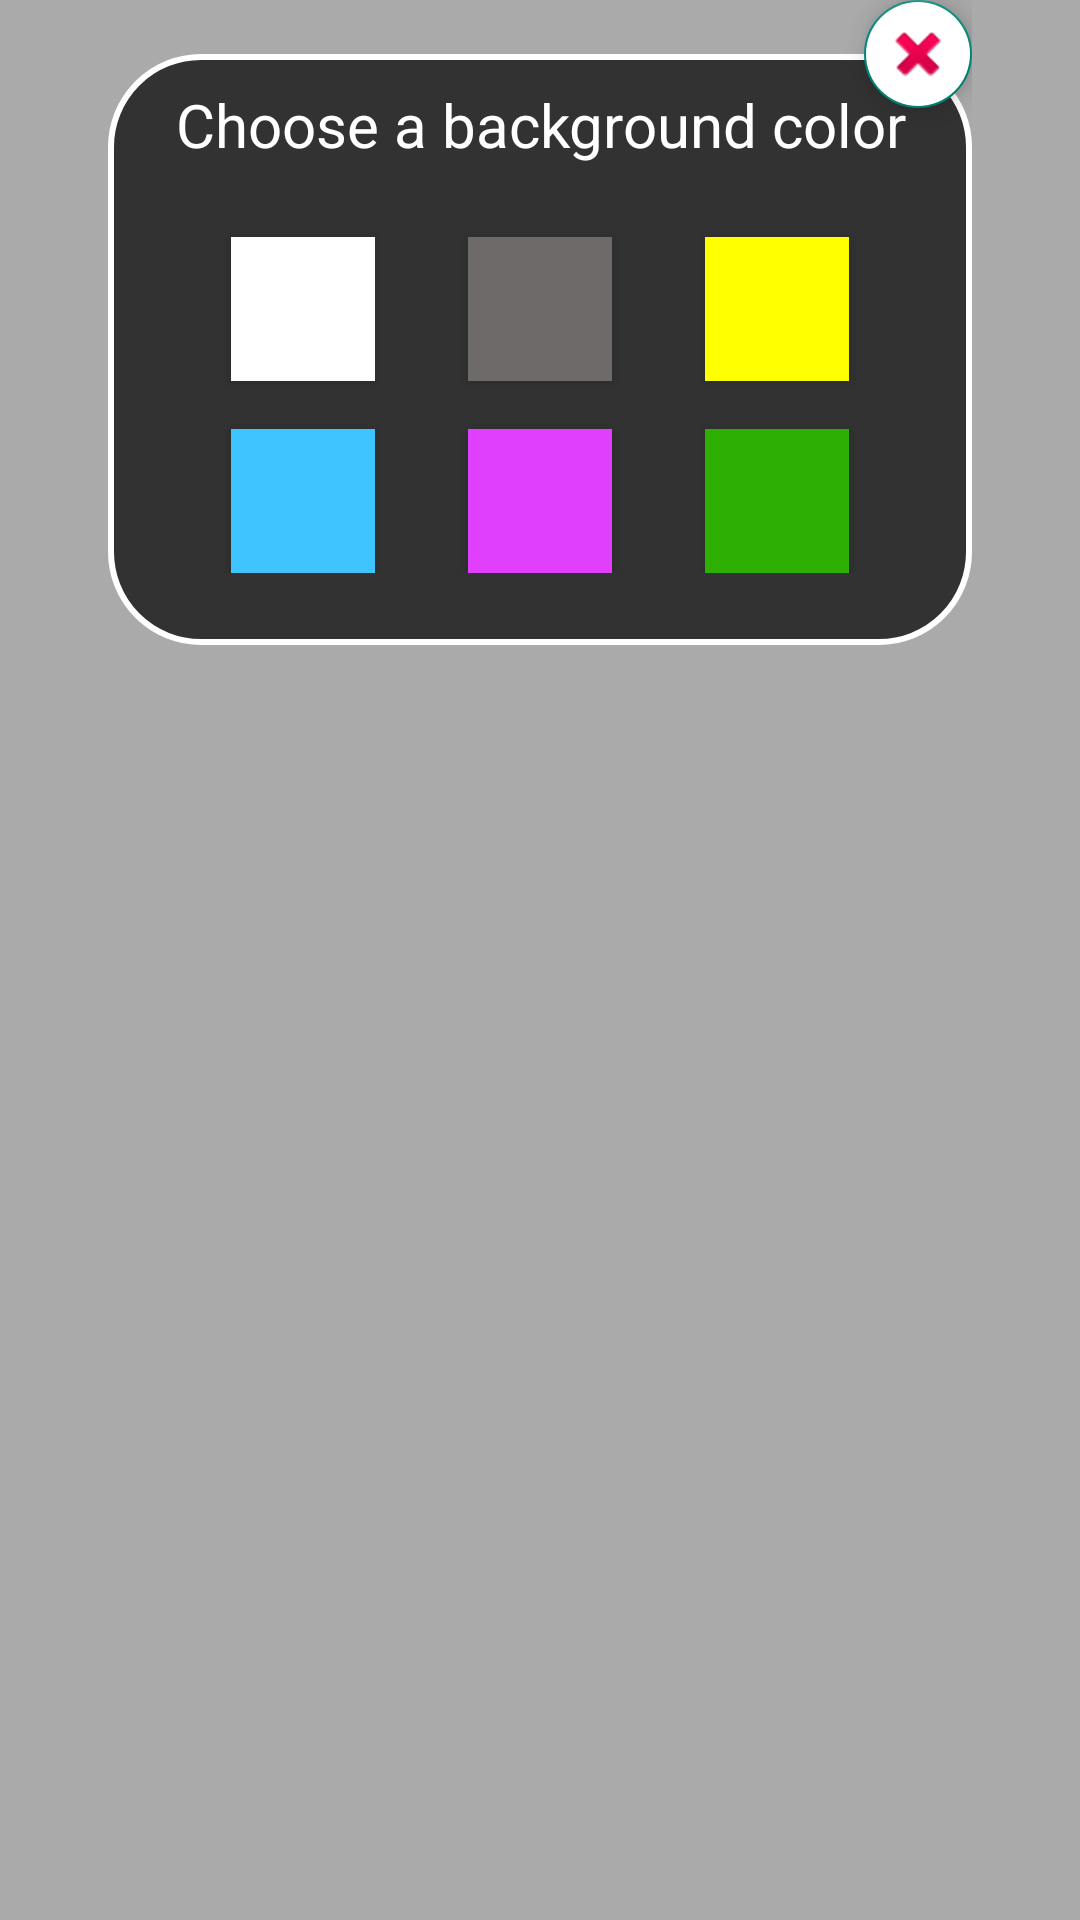

Named icons in this screenshot (1080 x 1920) and their centers, [x,y]:
delete: [918,54]
